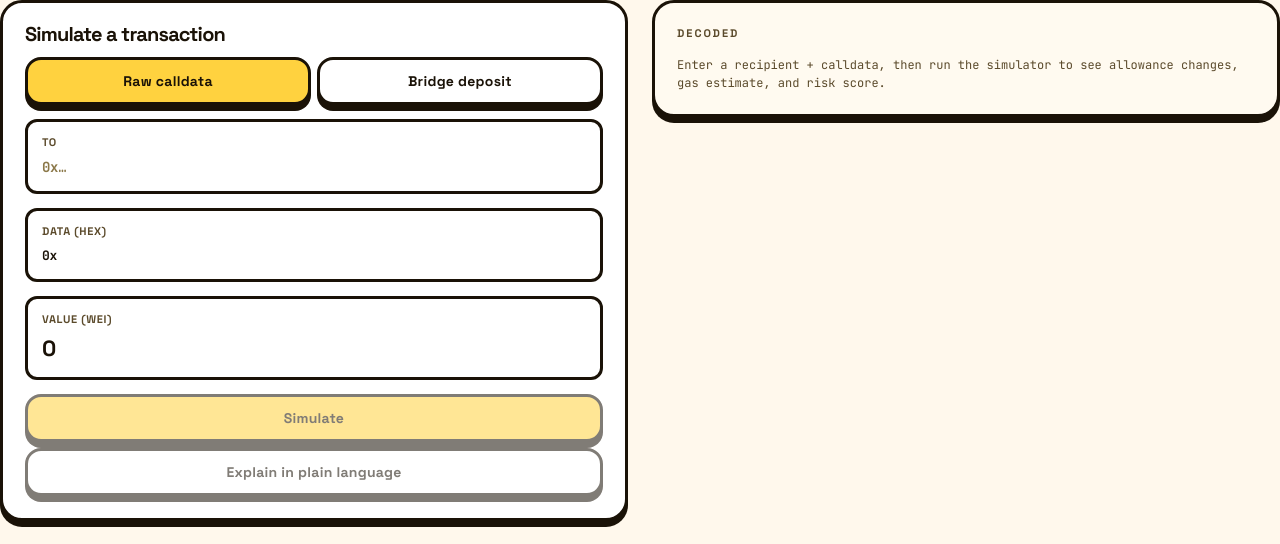
TxReviewPanel explanation layer › renders the summary above the checks, with the checks still shown
In the field with placeholder "0x…": point(314, 167) [42, 157, 586, 178], type "0x000000000000000000000000000000000000beef"
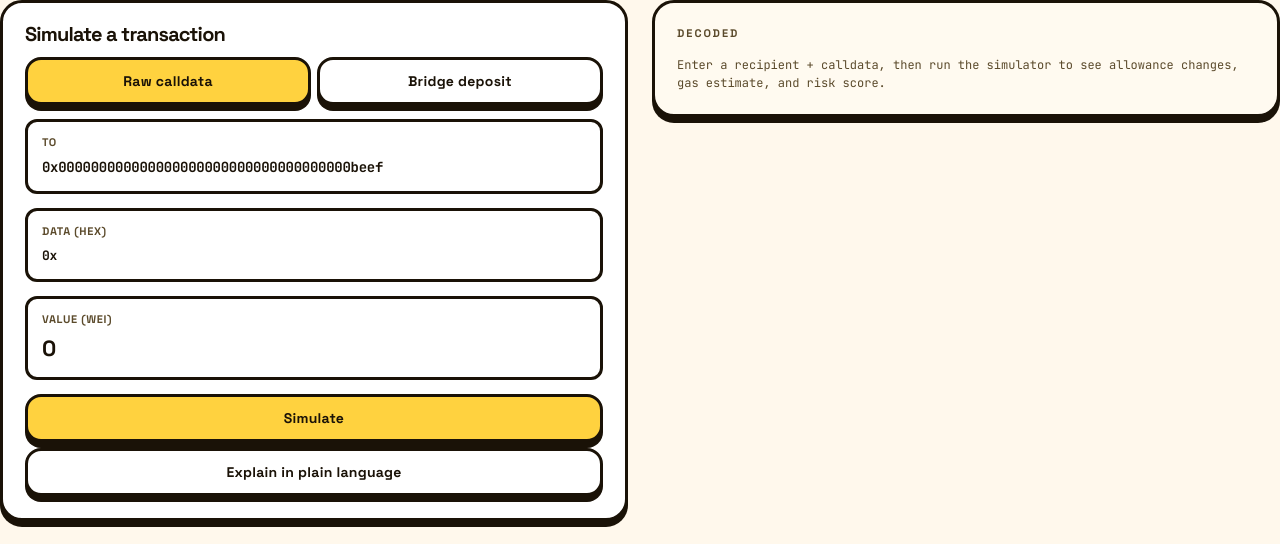
Click the button "Explain in plain language": point(314, 472) [25, 448, 603, 496]
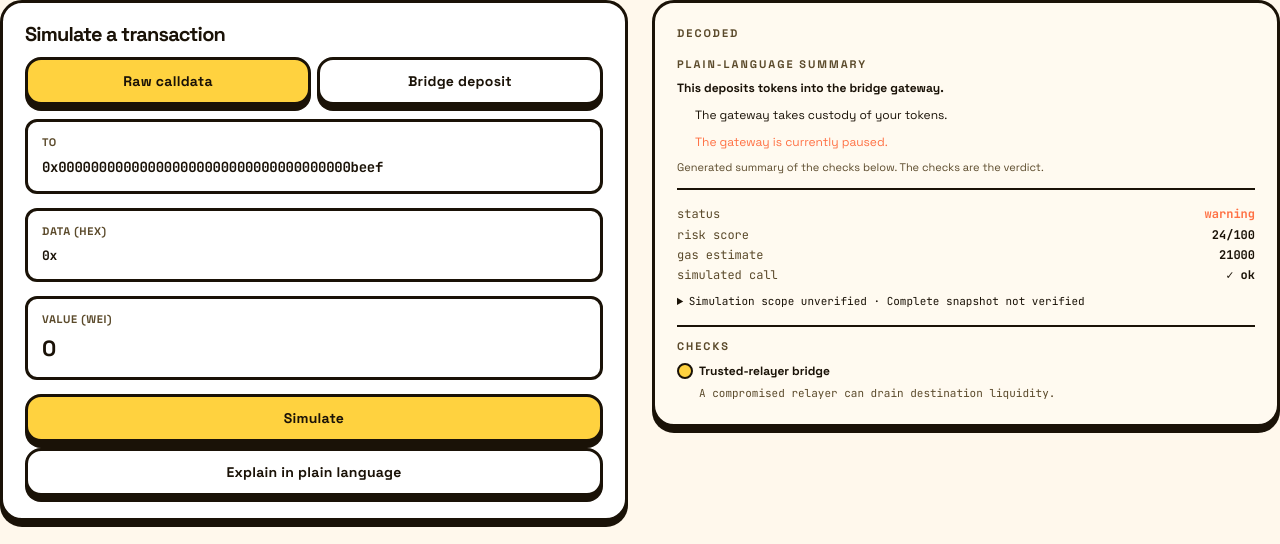
Check: the text "This deposits tokens into the bridge gateway." is shown, box [677, 80, 944, 96]
Check: the list item "The gateway takes custody of your tokens." is shown, box [695, 107, 947, 123]
Check: the text "Trusted-relayer bridge" is shown, box [699, 363, 830, 379]
